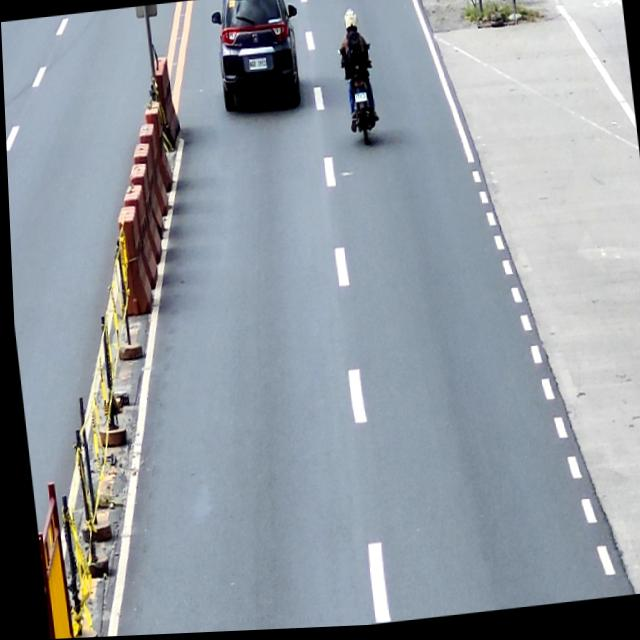Car: (208, 0, 306, 116)
License-Plate: (246, 56, 267, 74), (352, 94, 367, 107)
Motorcycle: (336, 45, 380, 150)
